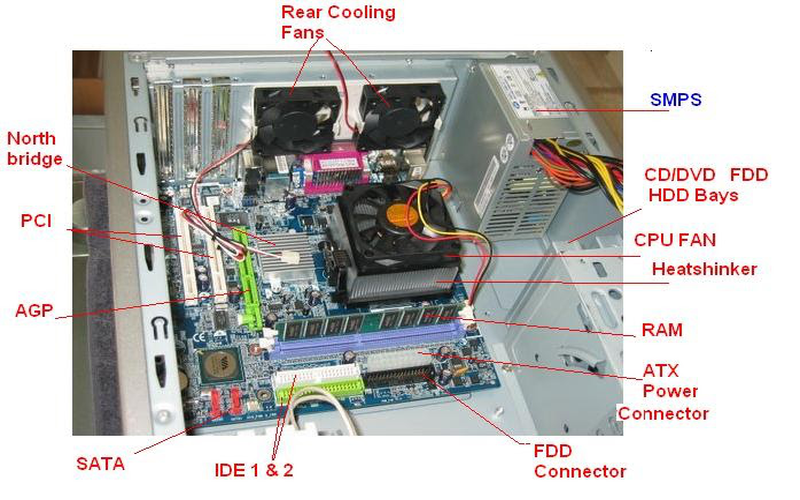Cirtuit-Board: (142, 177, 507, 419)
